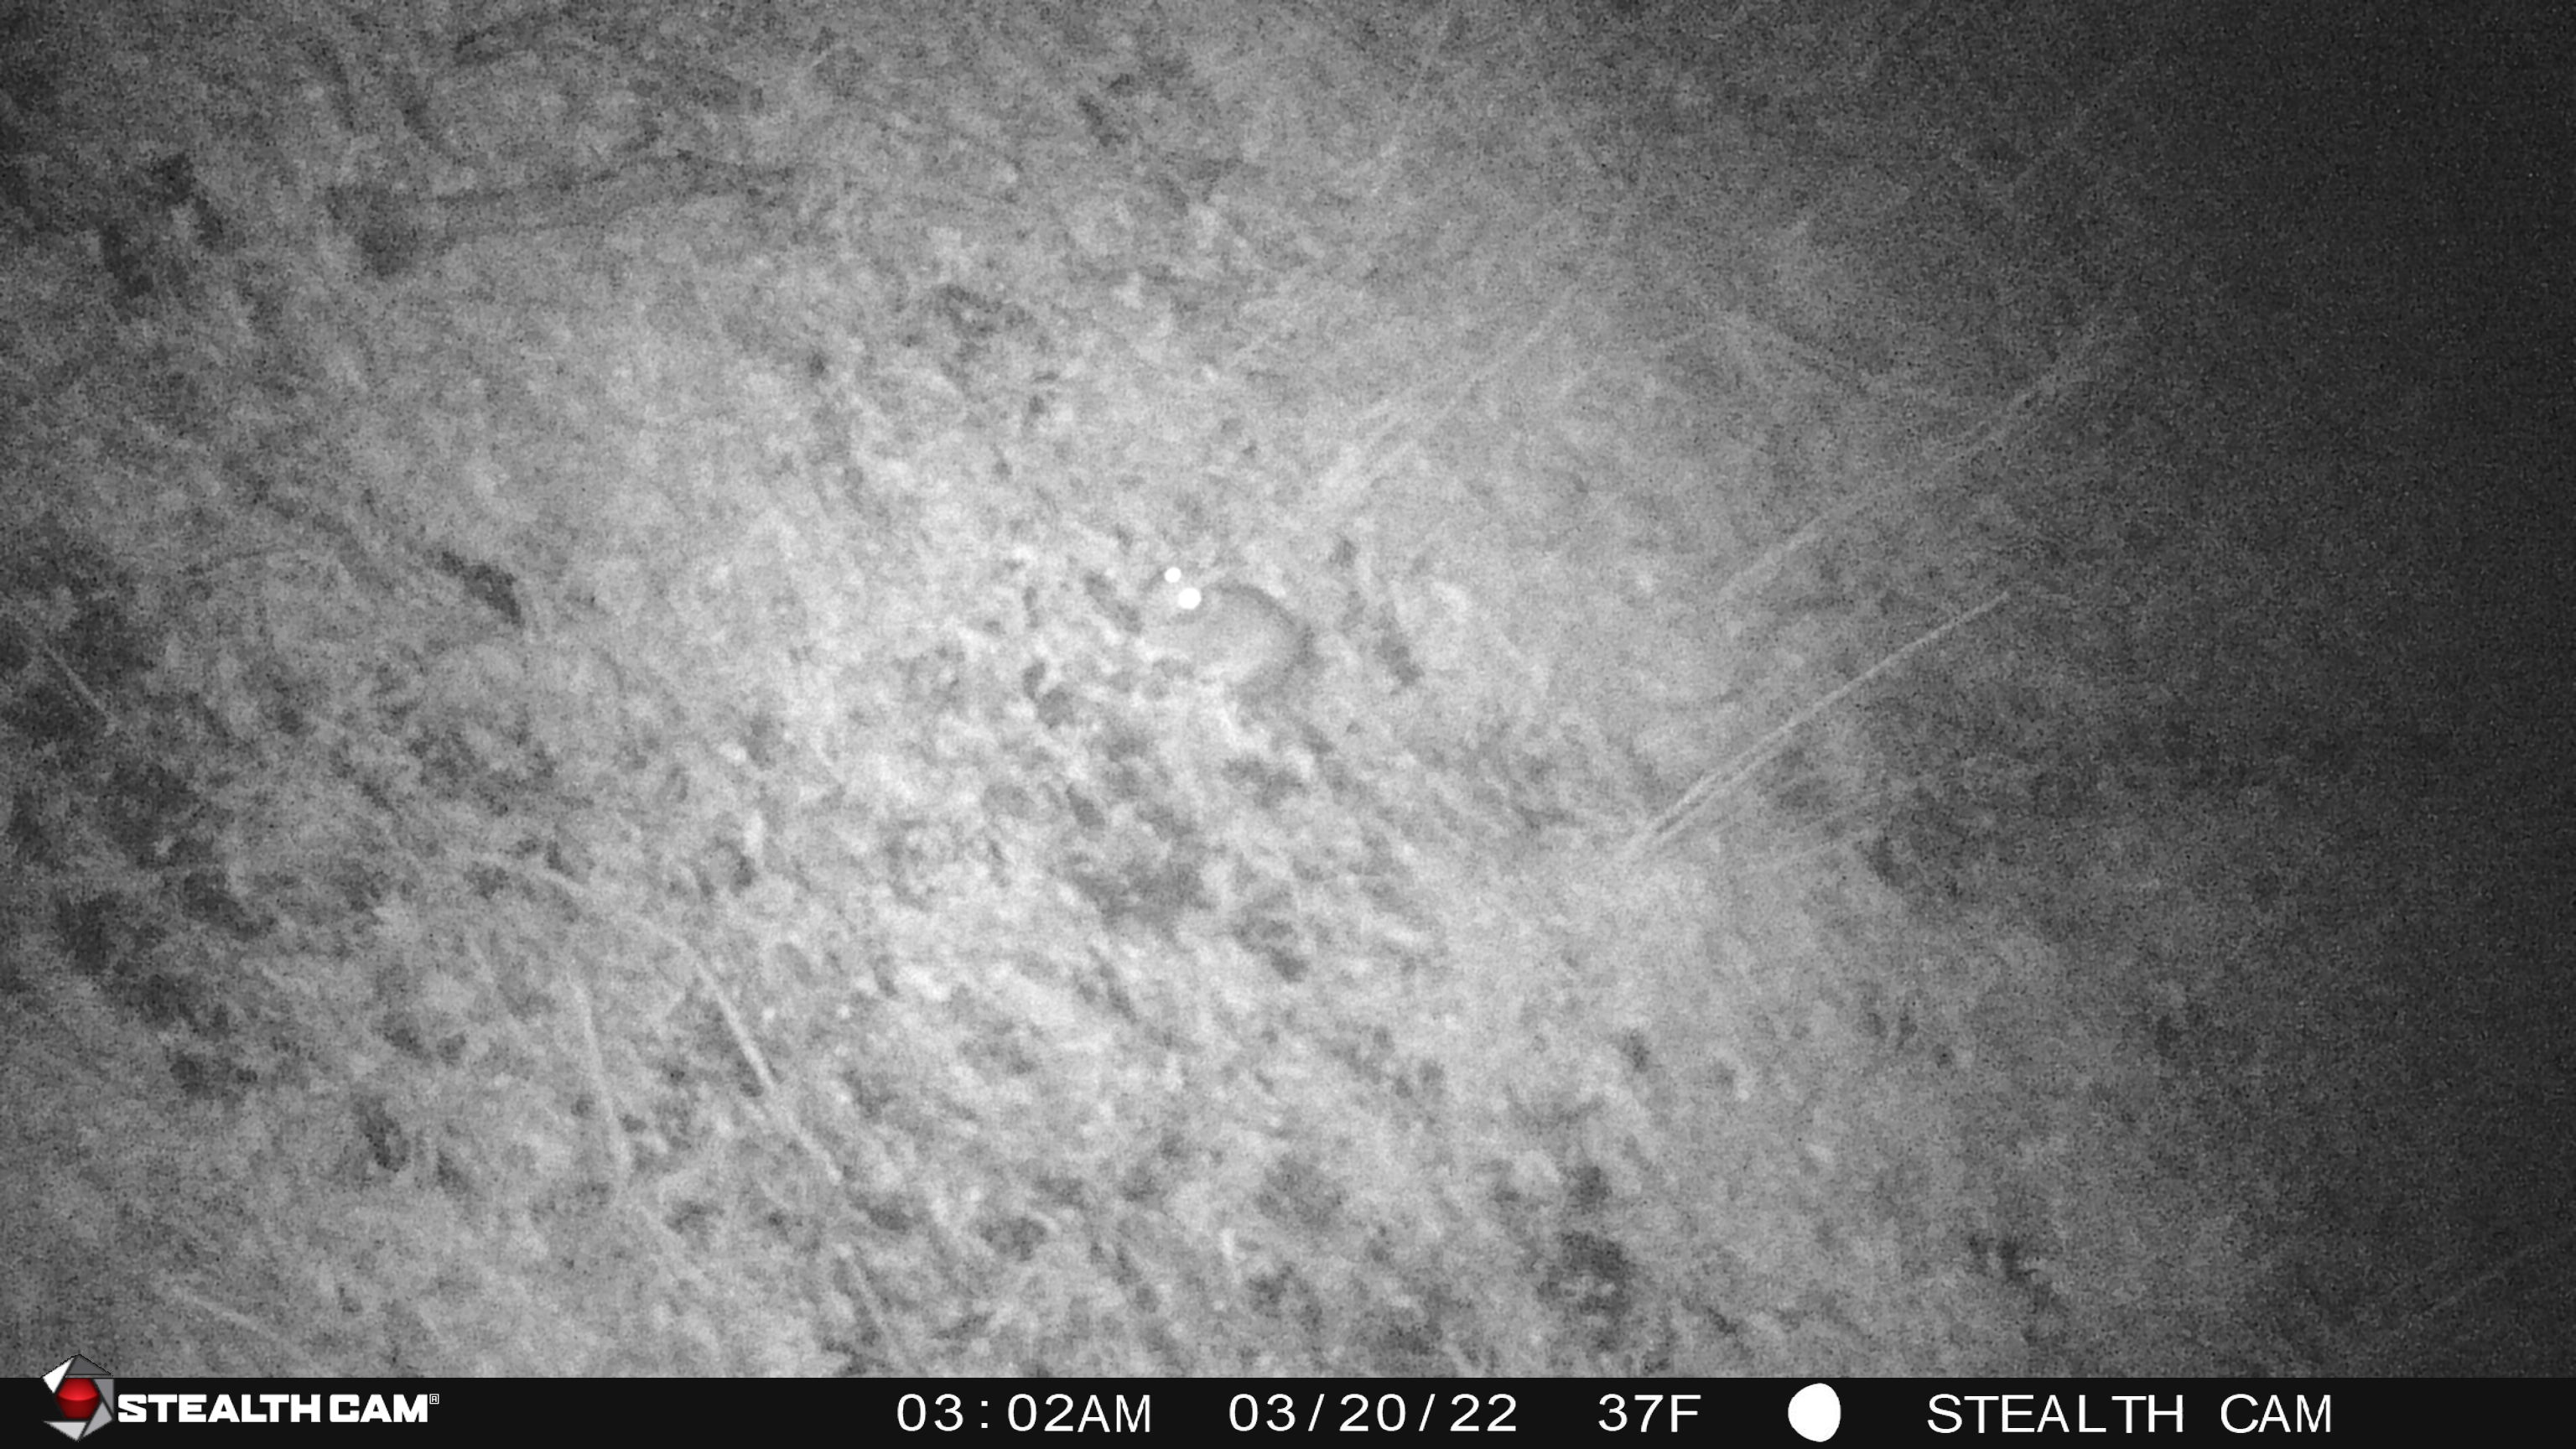Rabbit: (1129, 538, 1302, 688)
